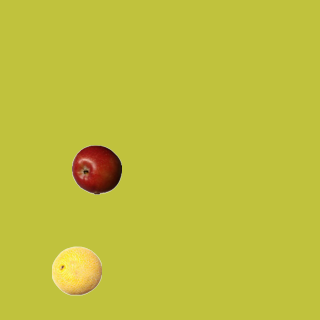Apple Braeburn: (71, 144, 121, 194)
Cantaloupe 1: (51, 245, 101, 295)
